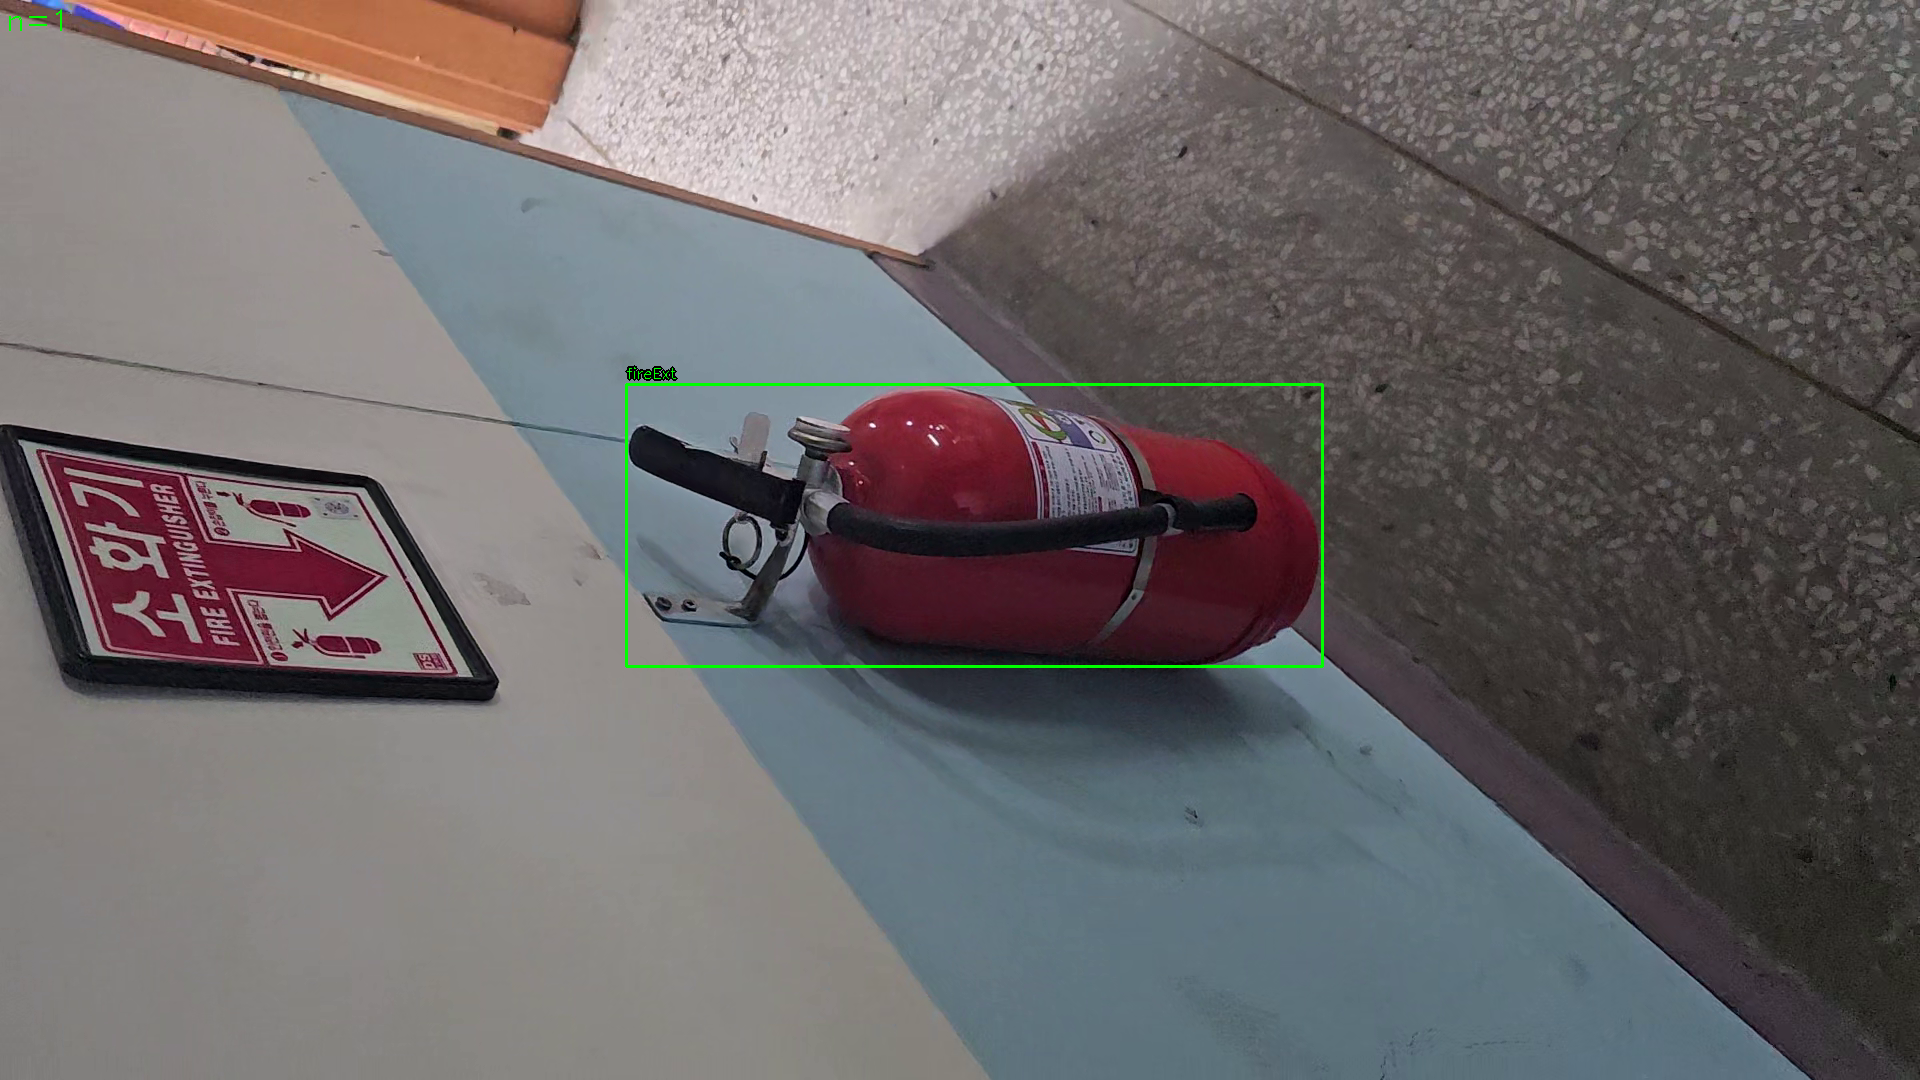lane: (626, 384, 1323, 667)
